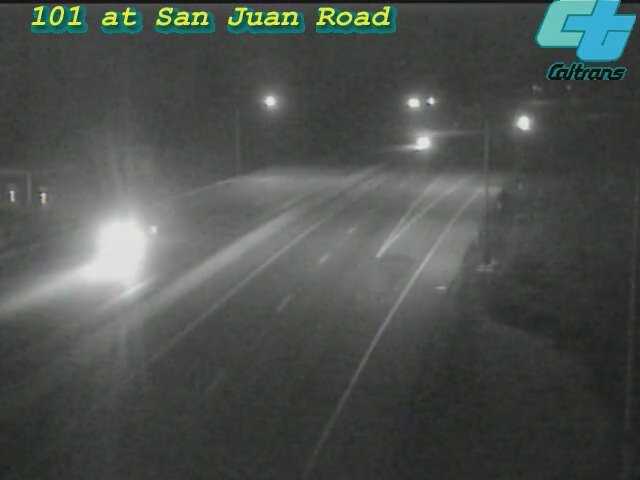vehicle: (72, 207, 152, 287), (394, 117, 444, 167), (496, 98, 546, 148)
